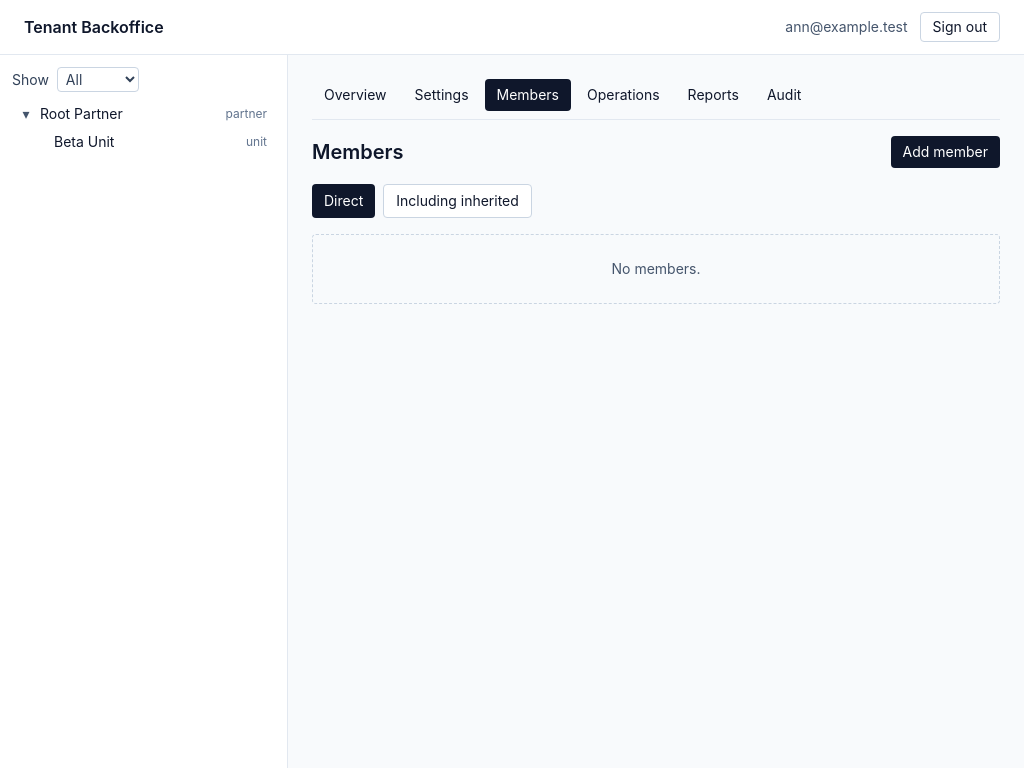
Test: members › a short password and a wrong email never reach the server
Click the button "Add member" at (945, 152), box [891,136,1000,168]
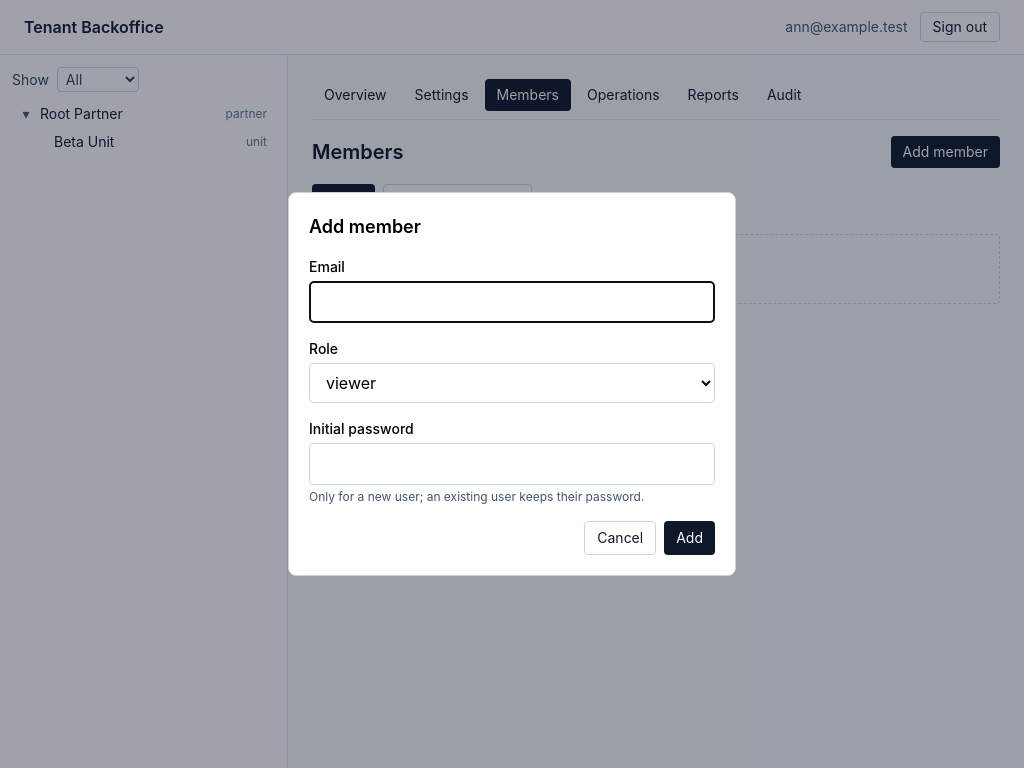
Type "not-an-email" into the field labelled "Email" at (512, 302), box [309,281,715,323]
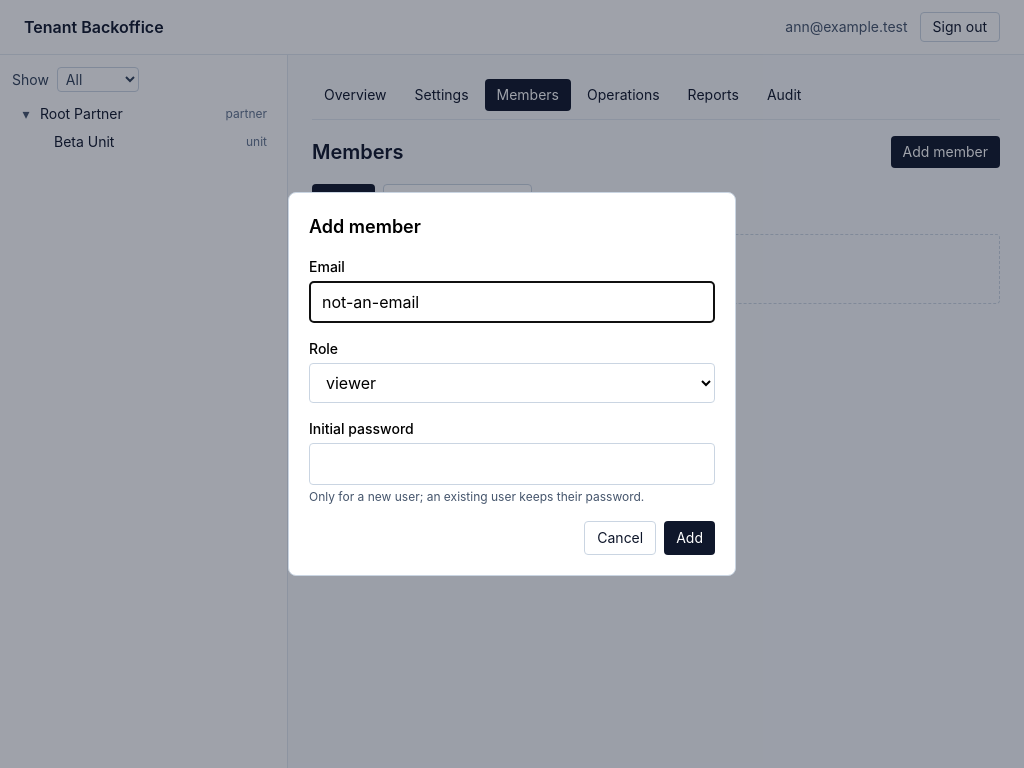
Type "short" into the password field labelled "Initial password" at (512, 464), box [309,443,715,485]
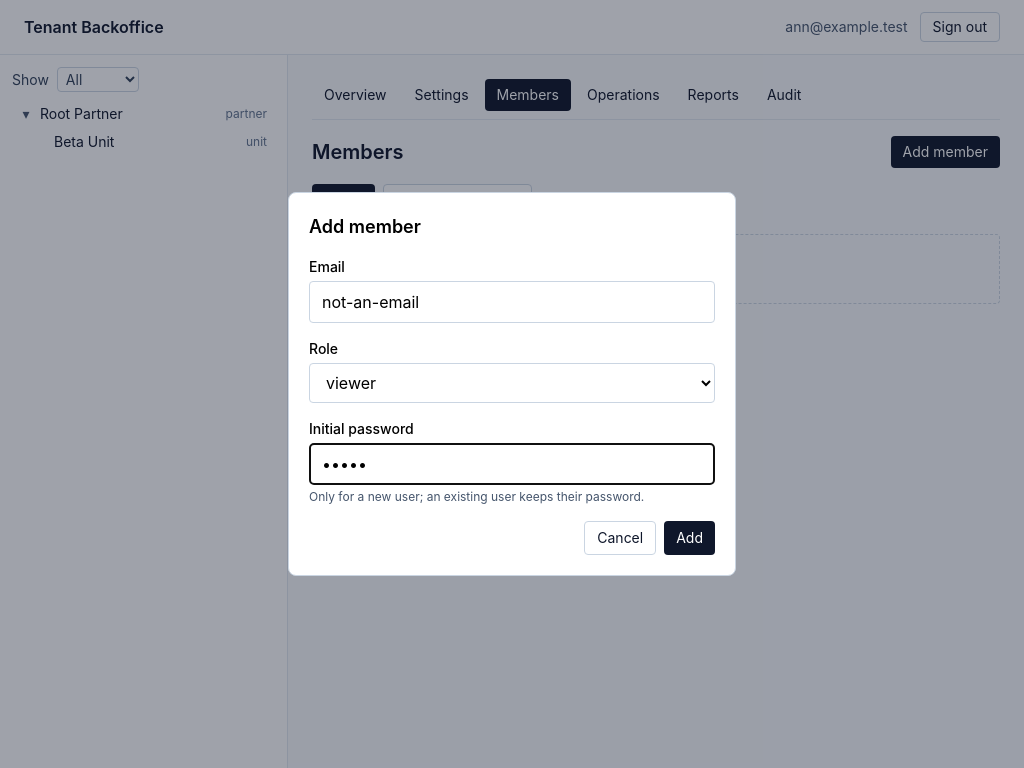
Click the submit button at (690, 538), box [664,521,715,555]
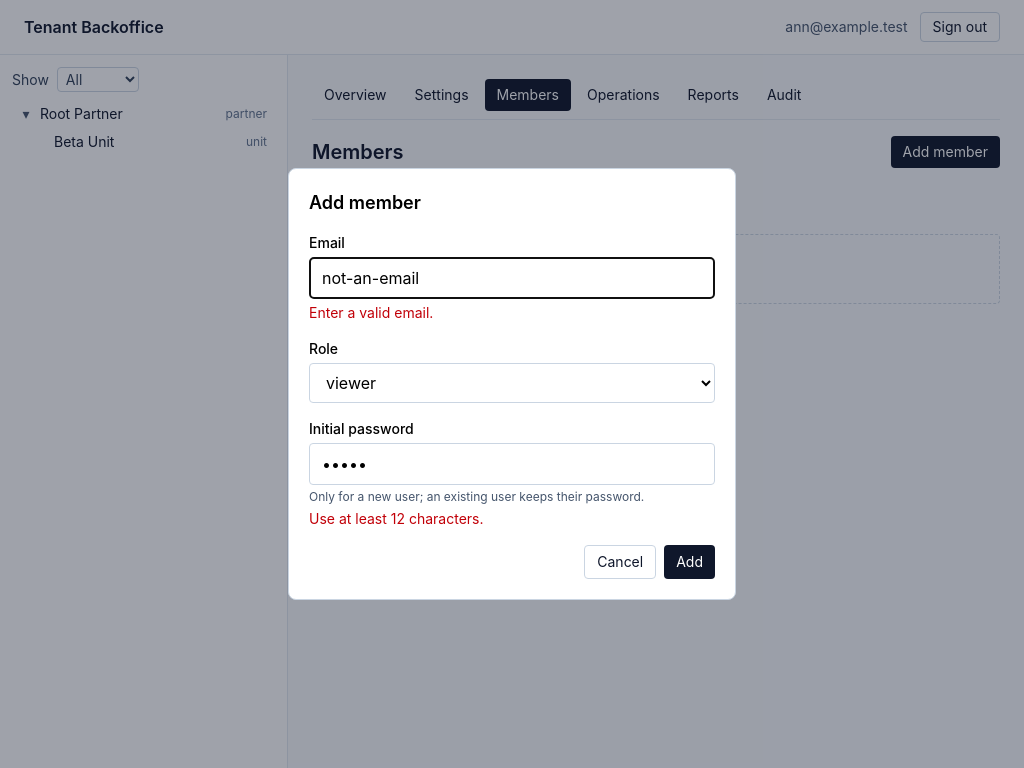
Check: the text "Enter a valid email." is shown, box [309,304,433,321]
Check: the text "Use at least 12 characters." is shown, box [309,510,484,527]
